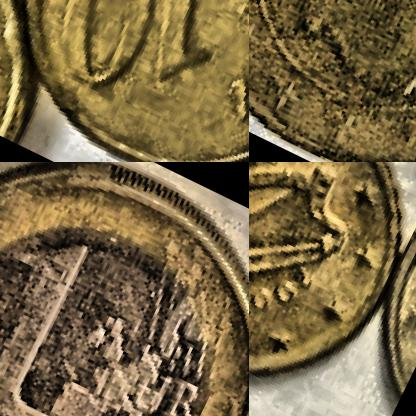coin: (0, 162, 248, 415), (249, 162, 415, 415), (0, 0, 248, 161), (249, 0, 415, 161)
